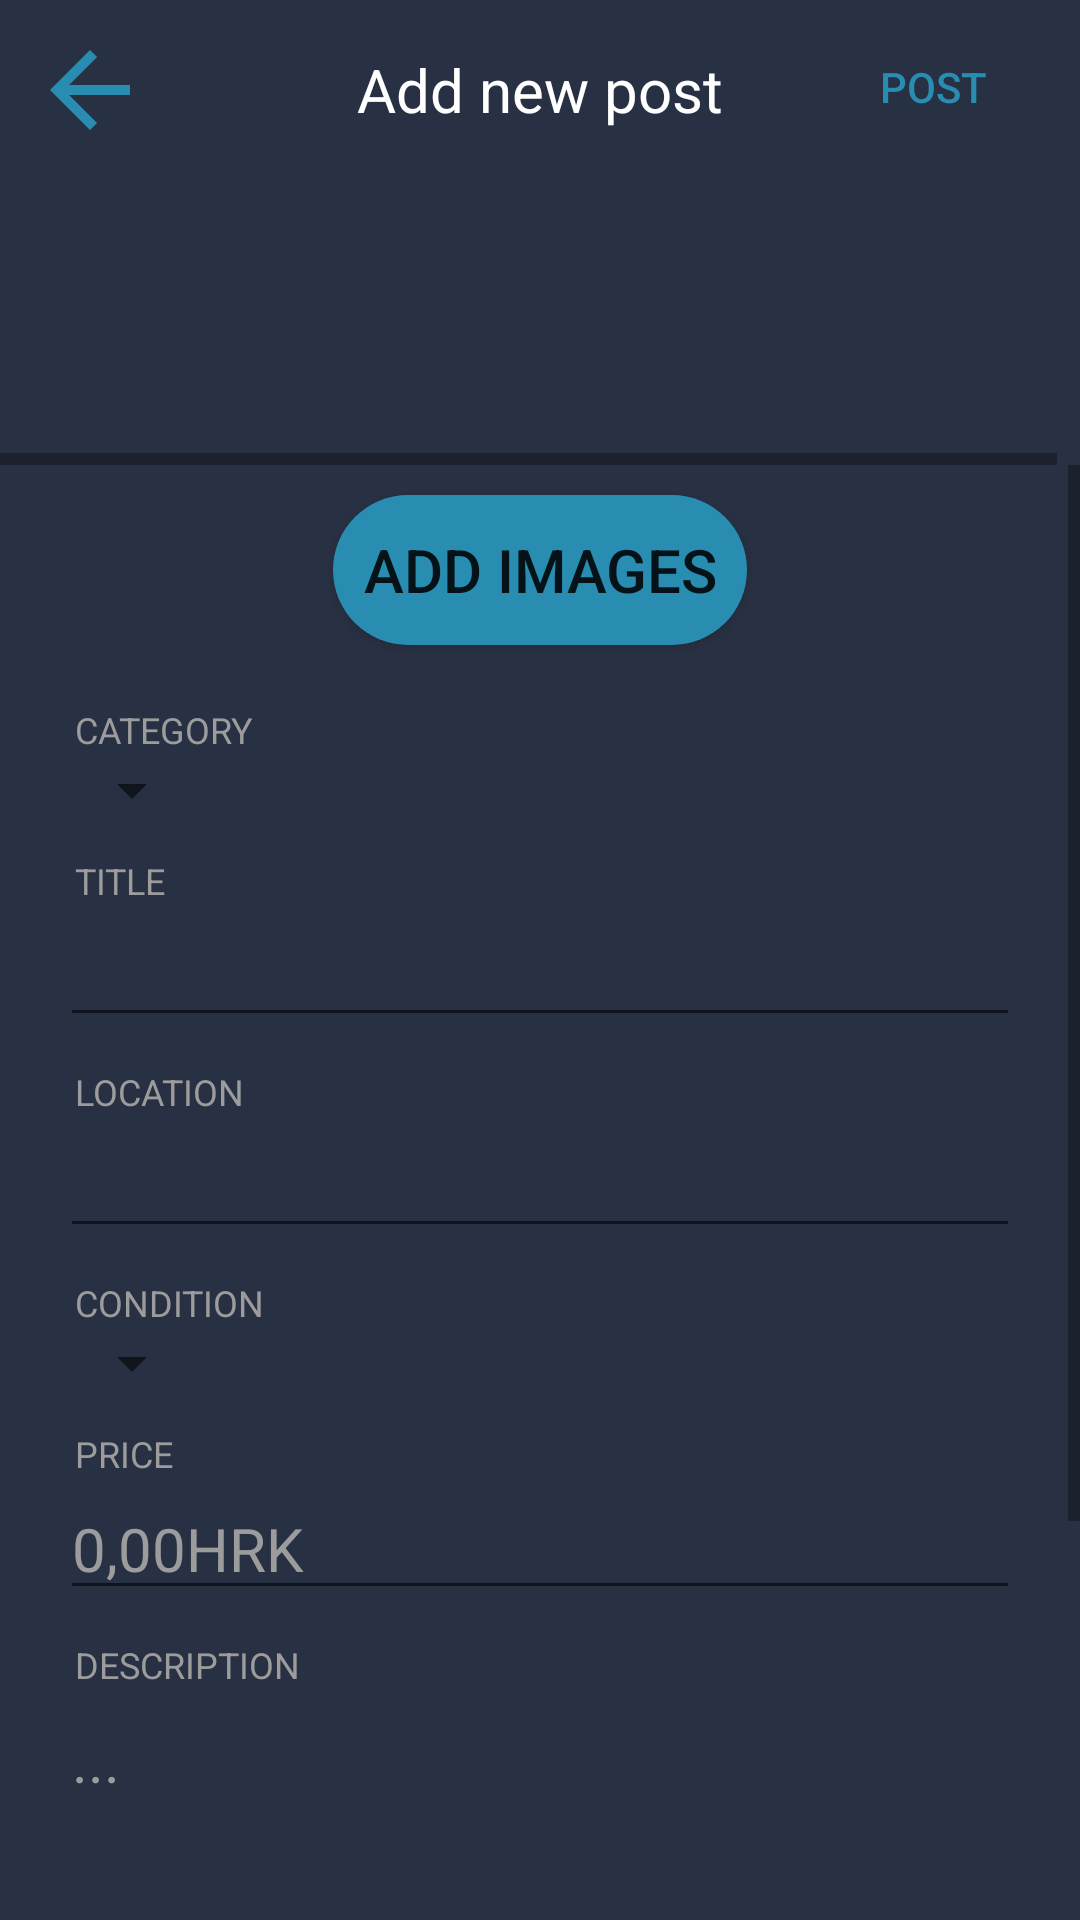

Icon click points for this 1080x1920 phone screenshot, format (x,y):
arrow back: (90,90)
